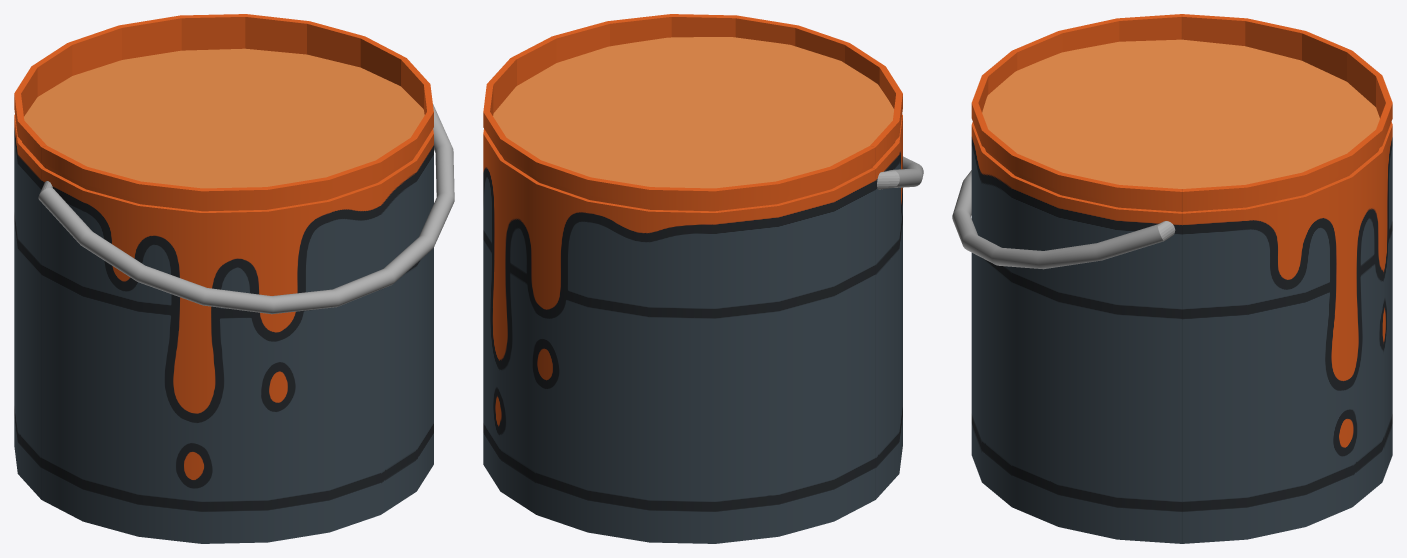
File: paintBucket_Orange.fbx
3 renders of one model, left to right at view 1: azimuth 30°, elevation 25°; view 2: azimuth 150°, elevation 25°; view 3: azimuth 270°, elevation 25°, orthographic.
Parts seen in each view (by area): view 1: paintBucket, paintMesh, bucketHandle; view 2: paintBucket, paintMesh, bucketHandle; view 3: paintBucket, paintMesh, bucketHandle.
Boxes of the visible parts, <box> form: paintBucket: <box>14,14,433,543</box>; paintMesh: <box>24,48,424,188</box>; bucketHandle: <box>38,104,454,314</box>; paintBucket: <box>483,14,902,543</box>; paintMesh: <box>493,37,894,188</box>; bucketHandle: <box>877,156,923,189</box>; paintBucket: <box>971,14,1392,543</box>; paintMesh: <box>982,39,1379,188</box>; bucketHandle: <box>952,170,1175,269</box>.
Bounding box in the file's own units: 1.32 × 1.13 × 1.28.
3 materials, 1 textured.
